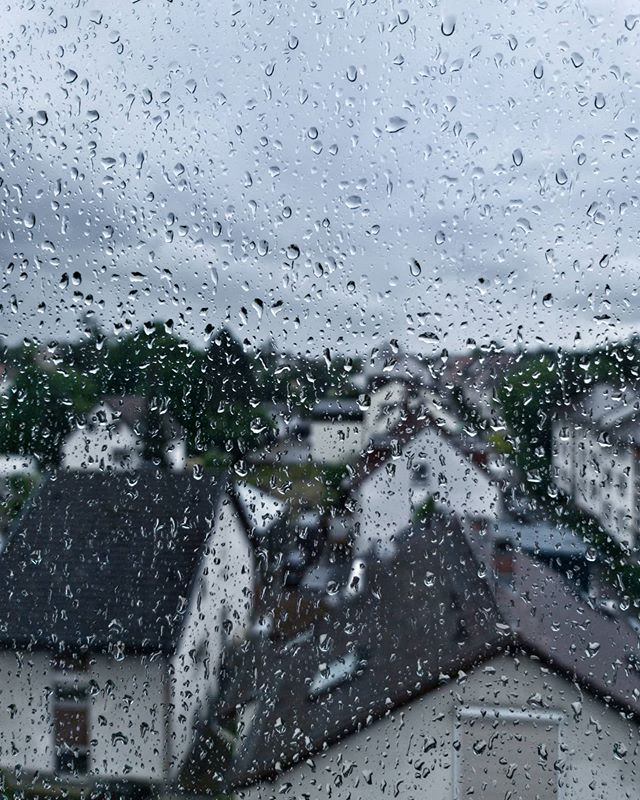building: (279, 526, 640, 800), (1, 459, 261, 781), (357, 413, 506, 533)
sky: (1, 1, 629, 349)
